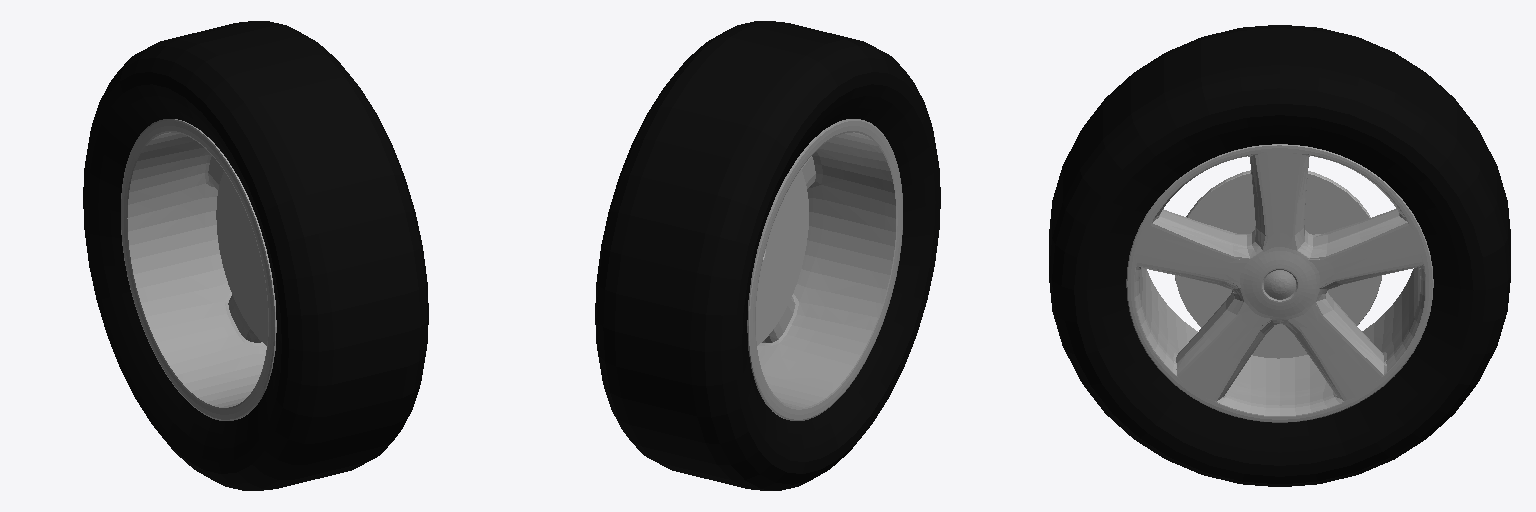
The model's file is AutoB_LLDI.obj.
The picture shows the model from 3 angles: view 1: azimuth 30°, elevation 25°; view 2: azimuth 150°, elevation 25°; view 3: azimuth 270°, elevation 25°; orthographic projection.
Parts seen in each view (by area): view 1: Tire1, Disk, brake; view 2: Tire1, Disk, brake; view 3: Tire1, Disk, brake.
Boxes of the visible parts, x1,y1,x2,y2 form: Tire1: [83, 21, 428, 490]; Disk: [121, 119, 276, 420]; brake: [216, 171, 267, 345]; Tire1: [595, 21, 940, 490]; Disk: [747, 119, 902, 420]; brake: [756, 170, 808, 345]; Tire1: [1049, 25, 1510, 486]; Disk: [1126, 144, 1433, 422]; brake: [1175, 170, 1381, 358].
Size of the model in its own units: 1.23 by 3.47 by 3.47.